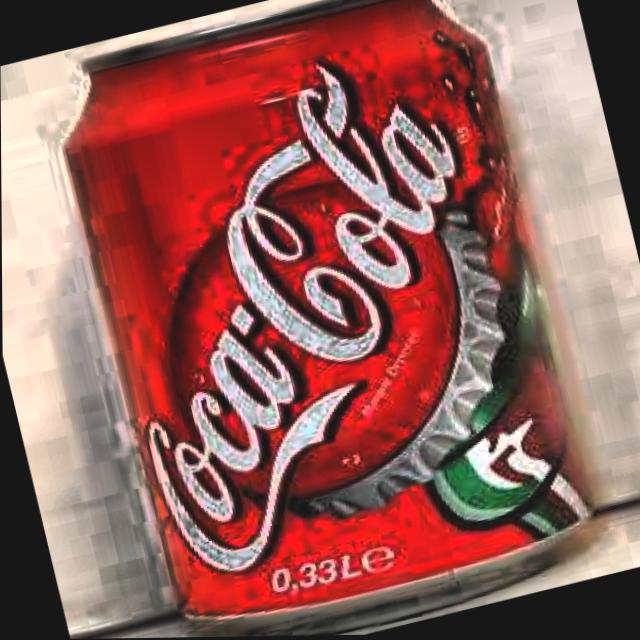Cans: (35, 0, 639, 640)
